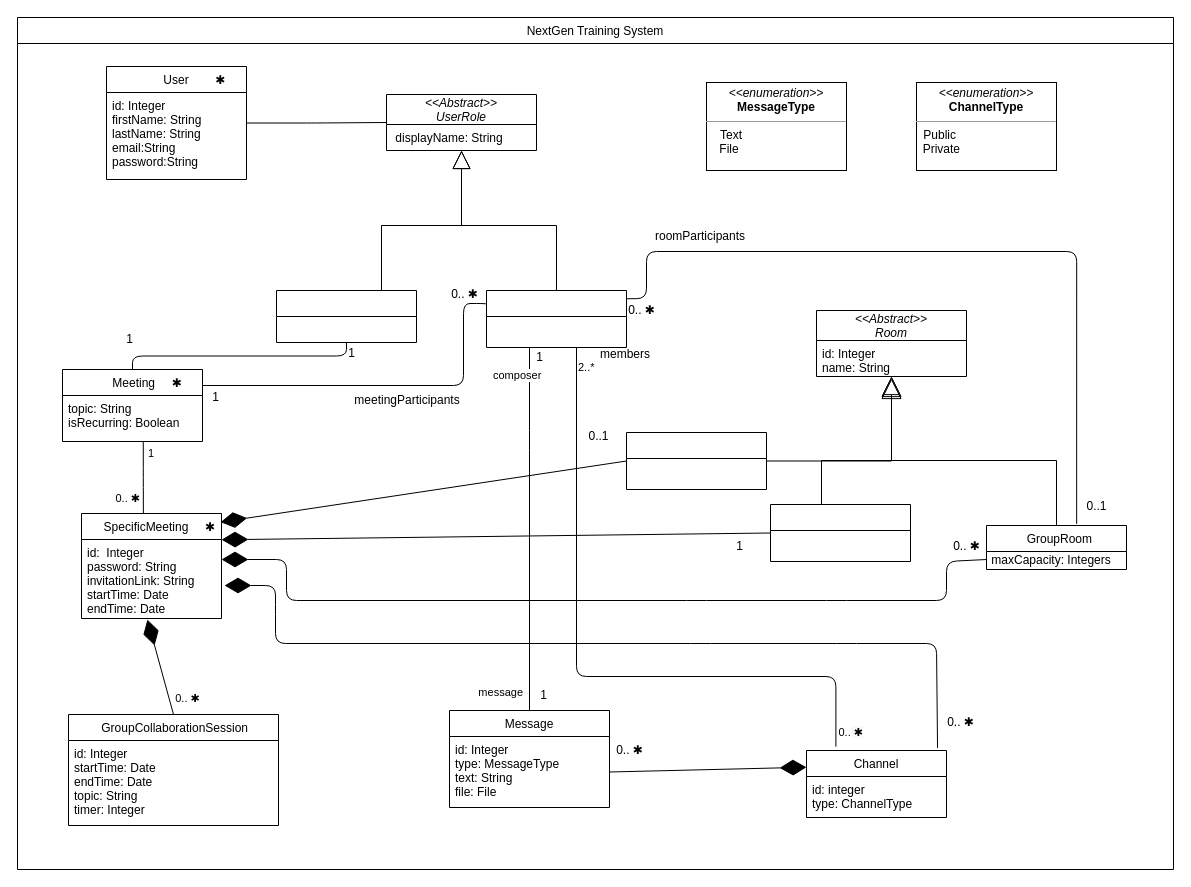
The diagram is 1191 pixels wide and 887 high, and some of its shapes have lost their labels. Here are the shapes that lost their labels. From the top down, the centre of each, then its label:
At (346,316): "Host".
At (556,319): "Participant".
At (696,461): "WaitingRoom".
At (840,533): "MainRoom".
